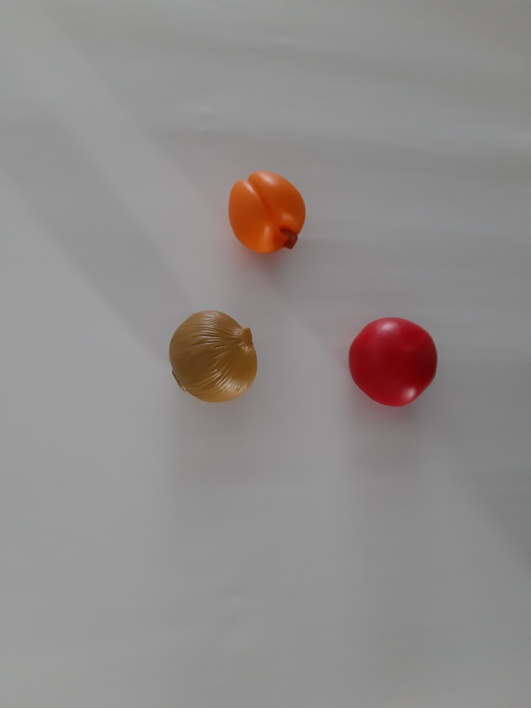apricot: (193, 155, 332, 283)
onion: (153, 299, 287, 426)
tomato: (332, 301, 459, 422)
